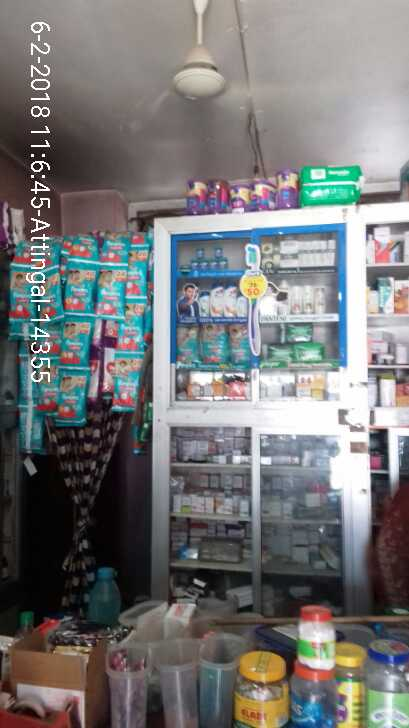vicks: (185, 242, 233, 278)
